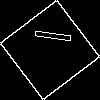I: (25, 25, 72, 45)
